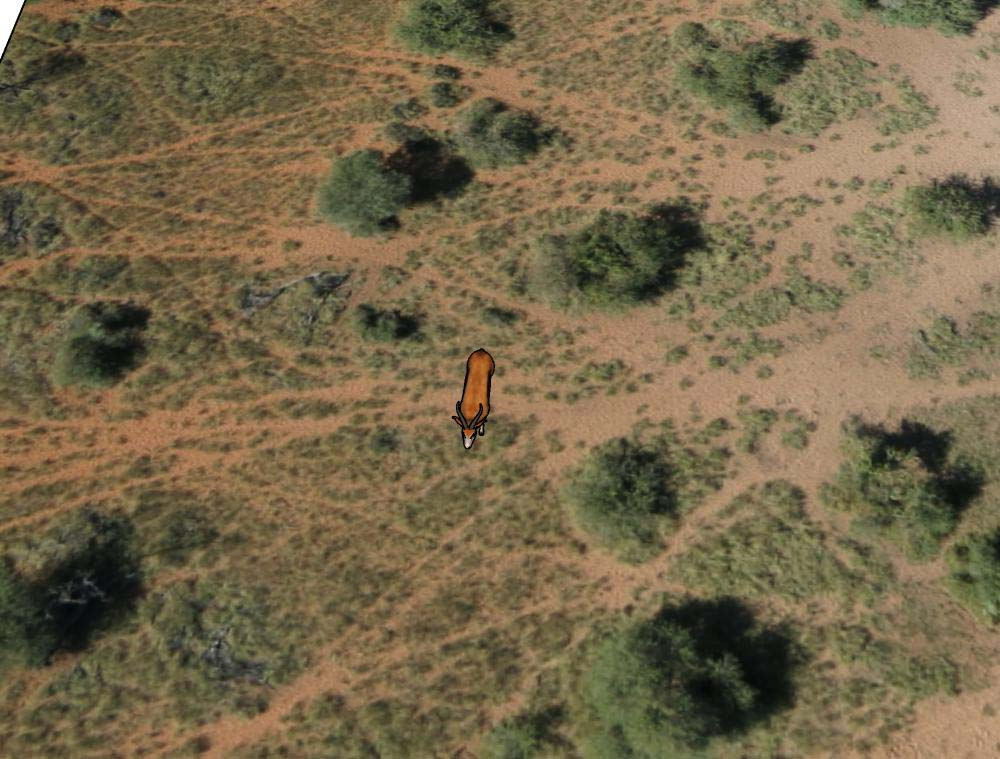springbok: (448, 344, 499, 447)
